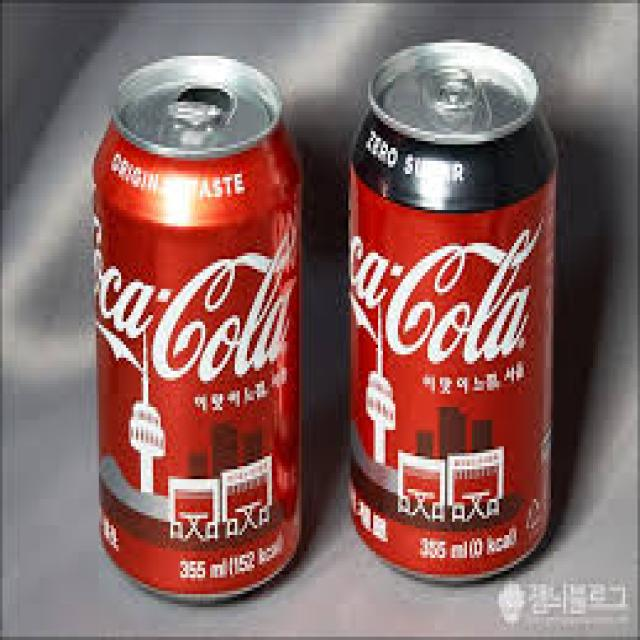Coca-Cola: (80, 39, 330, 617)
